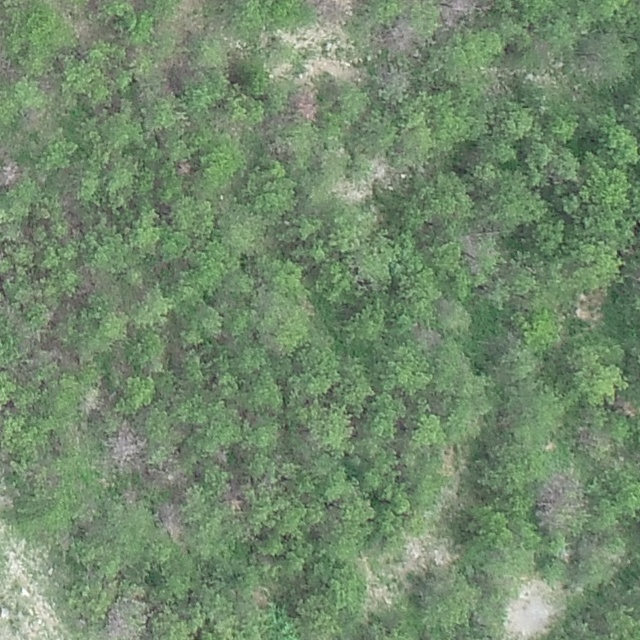unhealthy: (533, 471, 582, 527), (105, 424, 146, 468), (379, 19, 420, 55), (102, 603, 141, 640), (155, 500, 185, 543), (310, 0, 358, 22), (438, 0, 477, 26), (291, 87, 320, 120), (59, 191, 84, 229), (45, 341, 79, 366), (411, 323, 443, 348), (220, 481, 247, 510), (0, 158, 22, 189), (80, 388, 103, 415), (249, 584, 273, 607), (0, 53, 18, 82), (112, 356, 134, 379), (120, 486, 139, 505), (176, 159, 195, 176), (215, 448, 229, 466)
